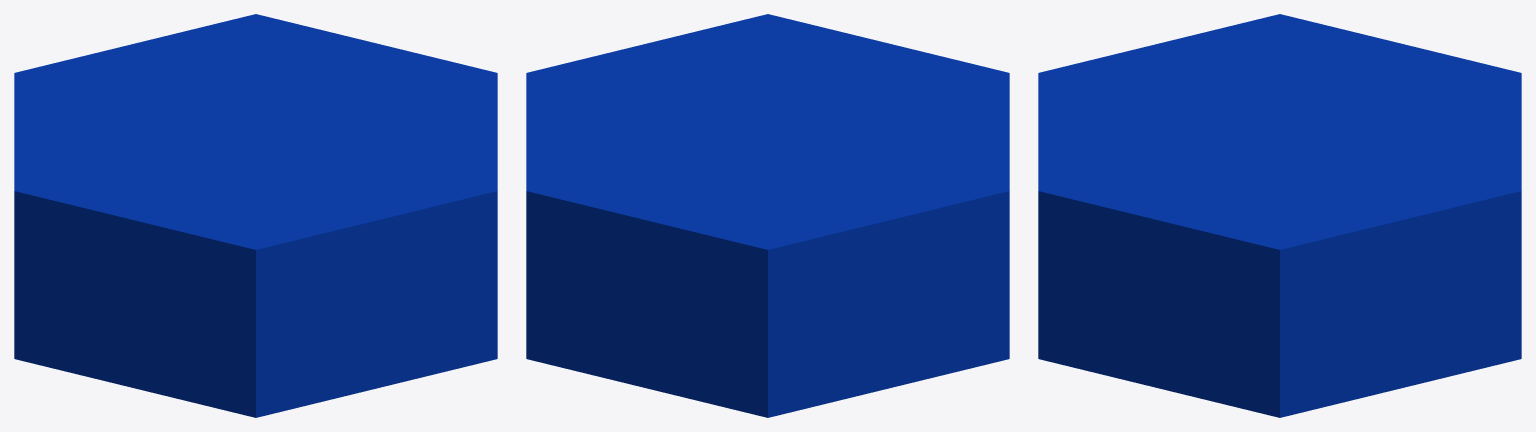
The model's file is luigi_course-luigi_course_V.glb.
The picture shows the model from 3 angles, left to right: view 1: azimuth 30°, elevation 25°; view 2: azimuth 150°, elevation 25°; view 3: azimuth 270°, elevation 25°; orthographic projection.
Visible parts, largest first — view 1: luigi_course_V; view 2: luigi_course_V; view 3: luigi_course_V.
Boxes of the visible parts, box(x1,y1,x2,y2) form: luigi_course_V: box(14, 14, 497, 417); luigi_course_V: box(526, 14, 1009, 417); luigi_course_V: box(1038, 14, 1521, 417).
Size of the model in its own units: 1104 by 366 by 956.
1 material, 1 textured.
